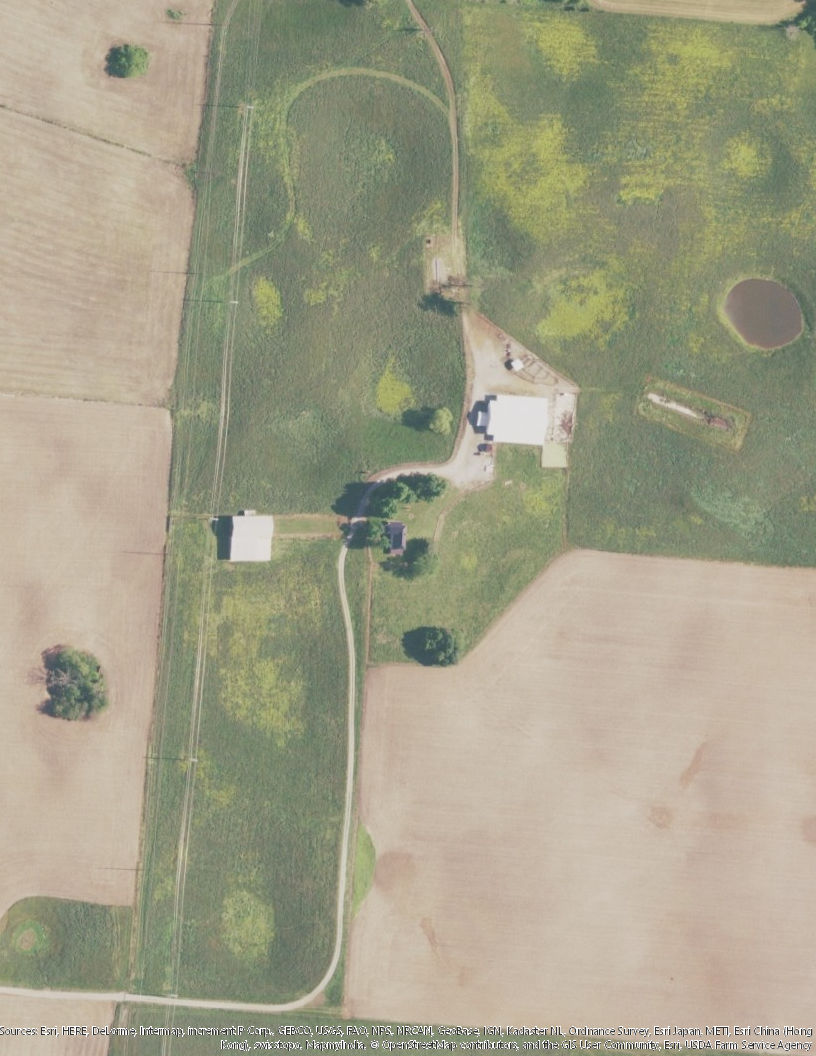cafo: (475, 386, 566, 452)
